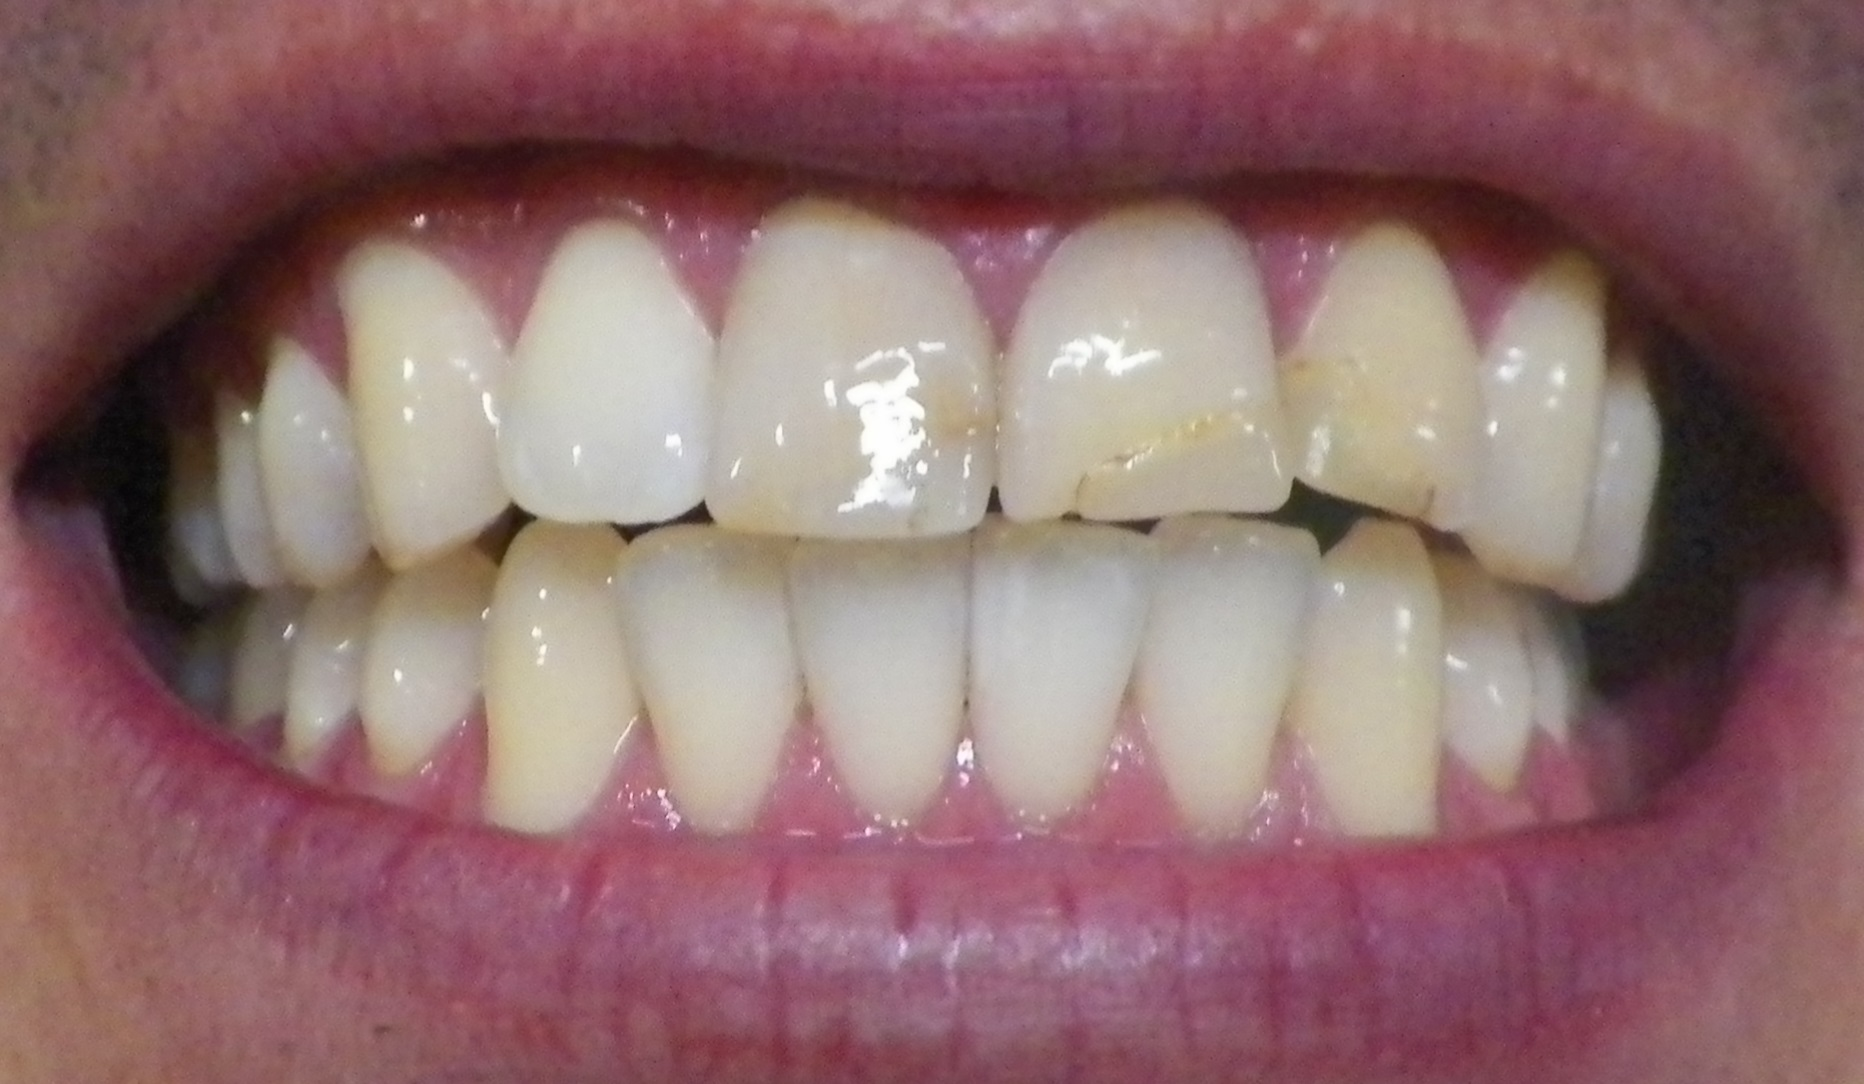boca: (172, 200, 1663, 827)
